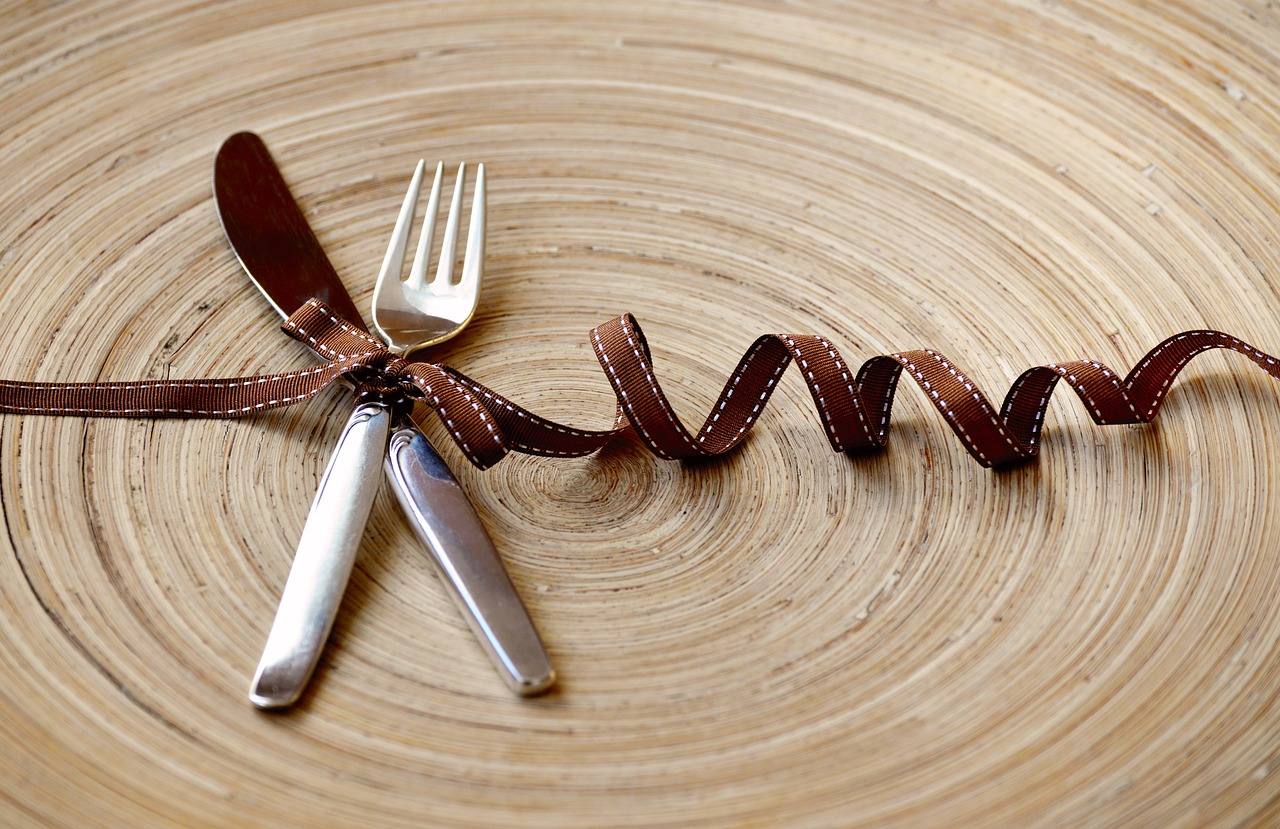knife: (208, 124, 568, 709)
